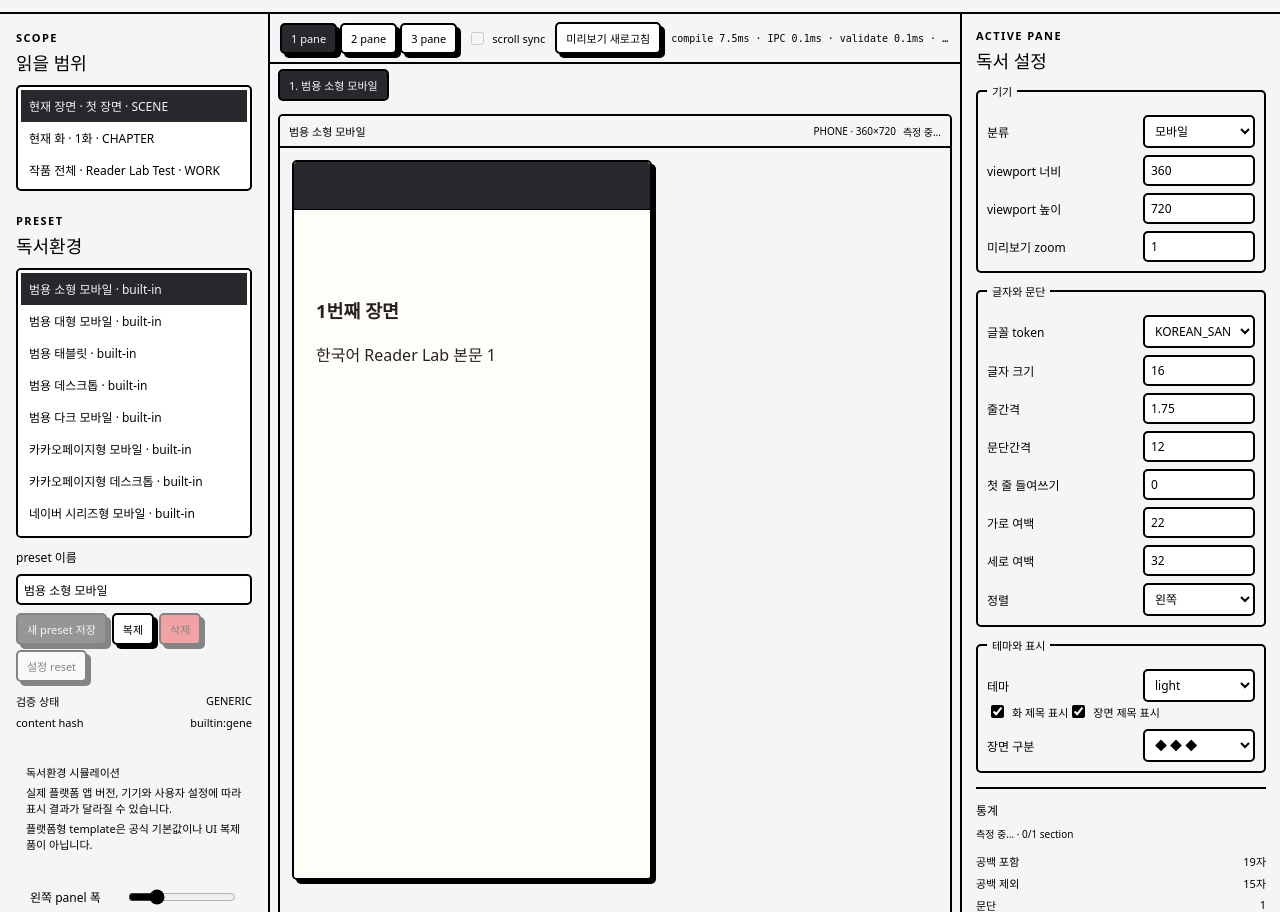
Test: Reader Lab workspace orchestration › hides an old preview after save failure until explicit last-saved viewing
Expected: the element with test id "reader-preview-panes" is shown, x1=270 y1=106 x2=960 y2=911
What coordinates should you click on to do the following:
click the button "미리보기 새로고침"
I would click on:
 (608, 38)
Its box is x1=555 y1=22 x2=661 y2=54.
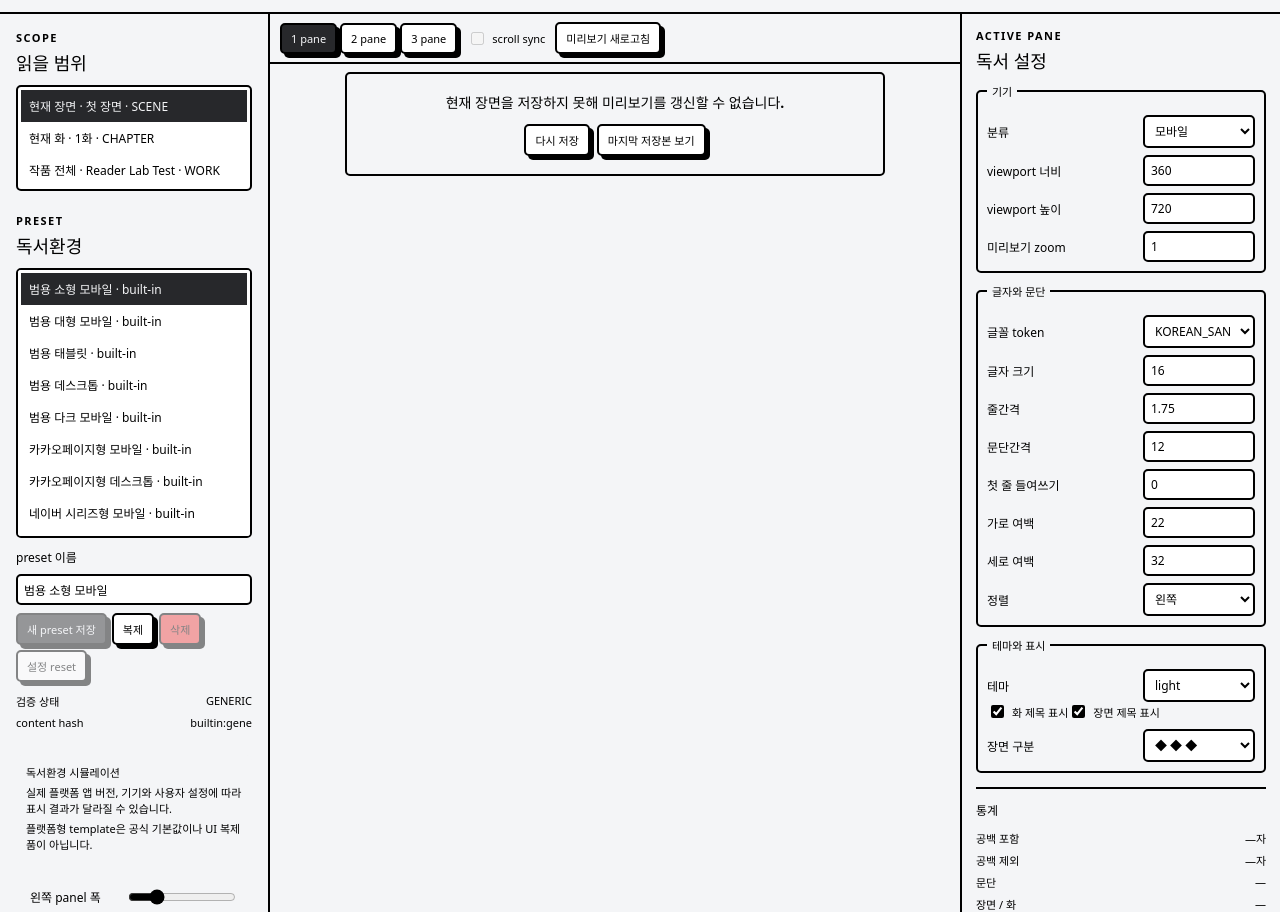
Expected: the text "현재 장면을 저장하지 못해 미리보기를 갱신할 수 없습니다." is shown, x1=446 y1=93 x2=784 y2=112
What coordinates should you click on to do the following:
click the button "마지막 저장본 보기"
I would click on:
 (651, 140)
Its box is x1=597 y1=124 x2=706 y2=156.
(page scrolled)
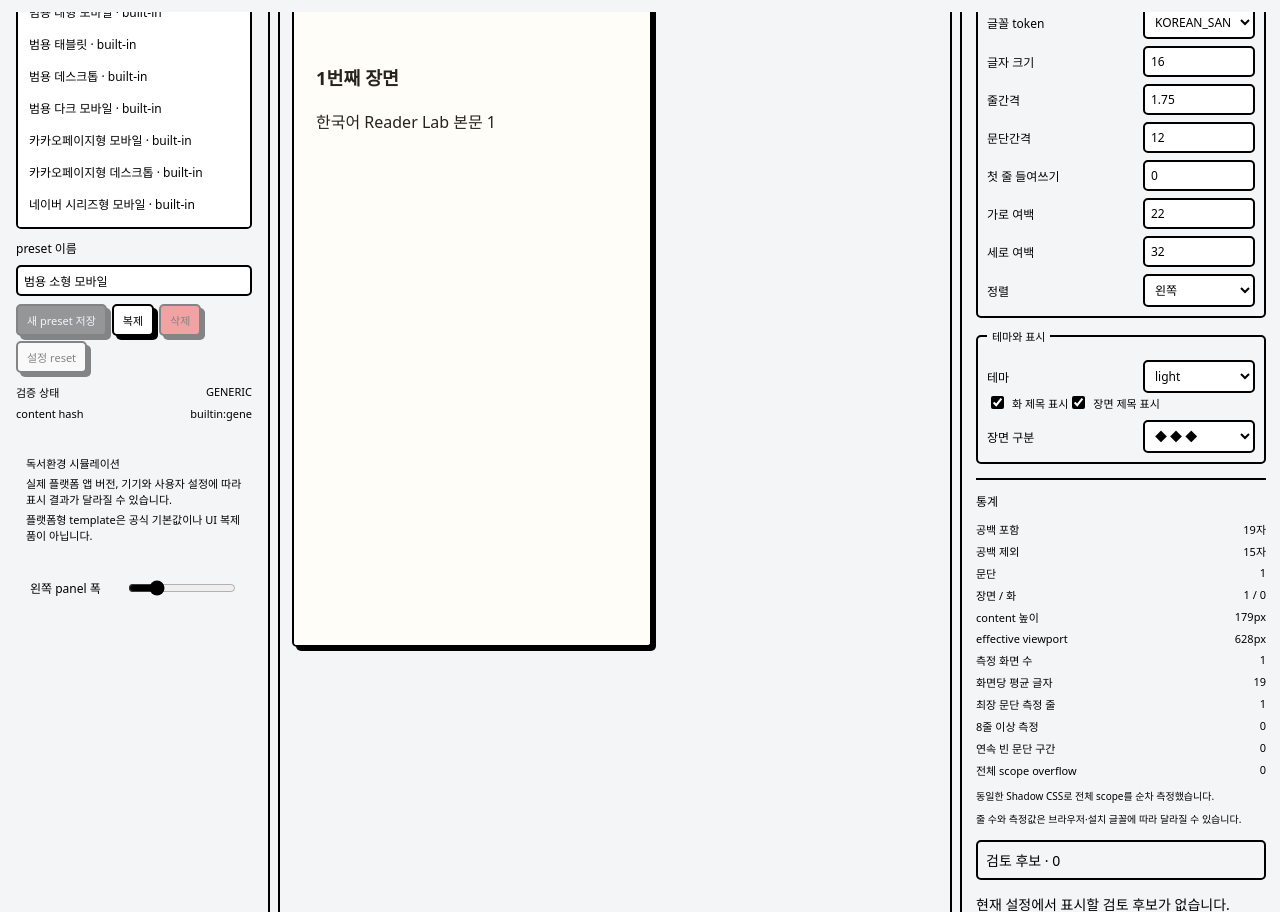
Expected: the element with test id "reader-preview-panes" is shown, x1=270 y1=12 x2=960 y2=911
